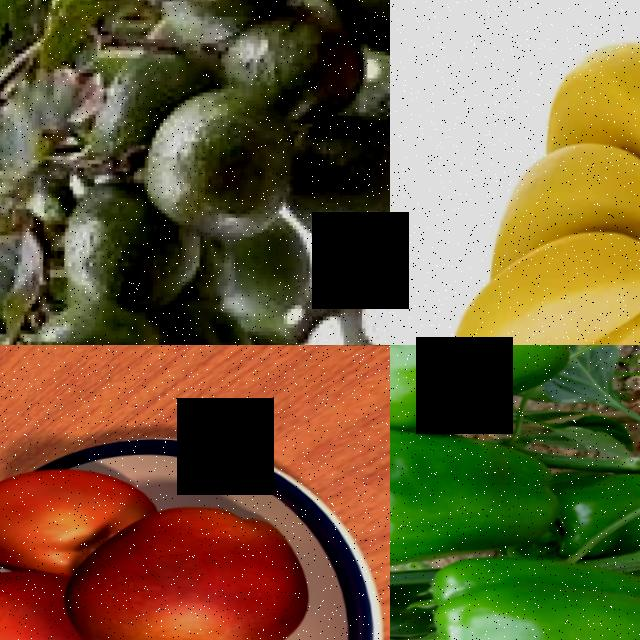apple: (44, 492, 308, 640), (0, 460, 87, 581)
avocado: (126, 85, 315, 241), (39, 181, 204, 319), (201, 12, 360, 124), (74, 40, 197, 179), (274, 107, 390, 254), (183, 226, 305, 330), (8, 280, 161, 345), (139, 285, 253, 345)
banana: (410, 0, 640, 345)
bell pepper: (390, 421, 541, 562), (406, 553, 640, 640), (390, 345, 567, 417)
